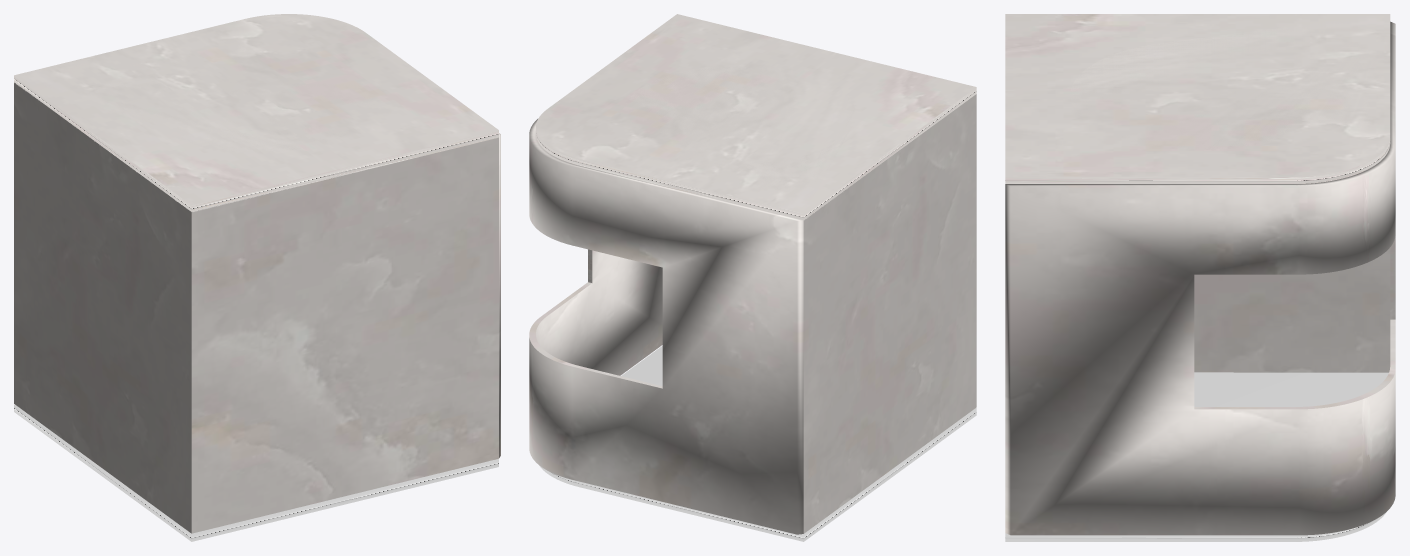
The model's file is virtual_house.fbx.
3 renders of one model, left to right at view 1: azimuth 30°, elevation 25°; view 2: azimuth 150°, elevation 25°; view 3: azimuth 270°, elevation 25°, orthographic. The views are drawn at different scales.
Parts seen in each view (by area): view 1: Cube.001, Cube.003, Cube, Cube.002; view 2: Cube.002, Cube.001, Cube.003, Cube; view 3: Cube.002, Cube.003, Cube.001, Cube.
Part boxes in pixels (x1=…): Cube.001: x1=14, y1=82, x2=498, y2=533; Cube.003: x1=14, y1=14, x2=498, y2=211; Cube: x1=14, y1=404, x2=498, y2=541; Cube.002: x1=499, y1=133, x2=500, y2=457; Cube.002: x1=529, y1=119, x2=803, y2=534; Cube.001: x1=803, y1=94, x2=976, y2=533; Cube.003: x1=536, y1=14, x2=976, y2=220; Cube: x1=539, y1=346, x2=976, y2=541; Cube.002: x1=1005, y1=21, x2=1395, y2=535; Cube.003: x1=1005, y1=14, x2=1390, y2=183; Cube.001: x1=1194, y1=247, x2=1390, y2=372; Cube: x1=1005, y1=372, x2=1388, y2=541.
Size of the model in its own units: 1014 by 1047 by 1014.
